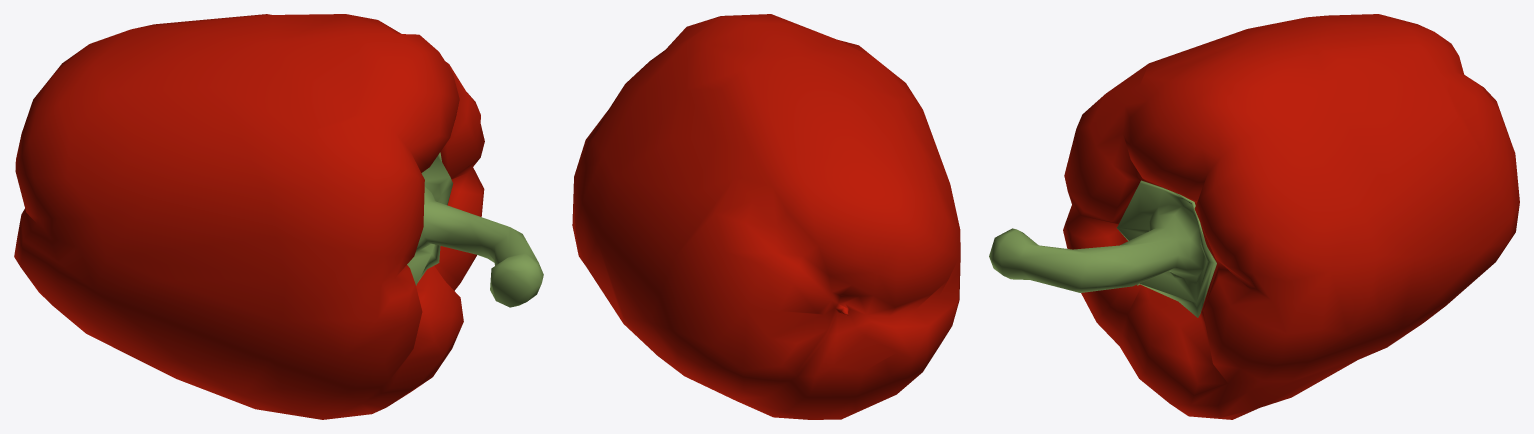
File: Red.fbx
The picture shows the model from 3 angles, left to right: view 1: azimuth 30°, elevation 25°; view 2: azimuth 150°, elevation 25°; view 3: azimuth 270°, elevation 25°; orthographic projection. The views are drawn at different scales.
Visible parts, largest first — view 1: Red; view 2: Red; view 3: Red.
Boxes of the visible parts, x1=… form: Red: x1=14, y1=14, x2=543, y2=419; Red: x1=572, y1=14, x2=960, y2=419; Red: x1=989, y1=14, x2=1519, y2=419.
Bounding box in the file's own units: 0.0813 × 0.069 × 0.0943.
